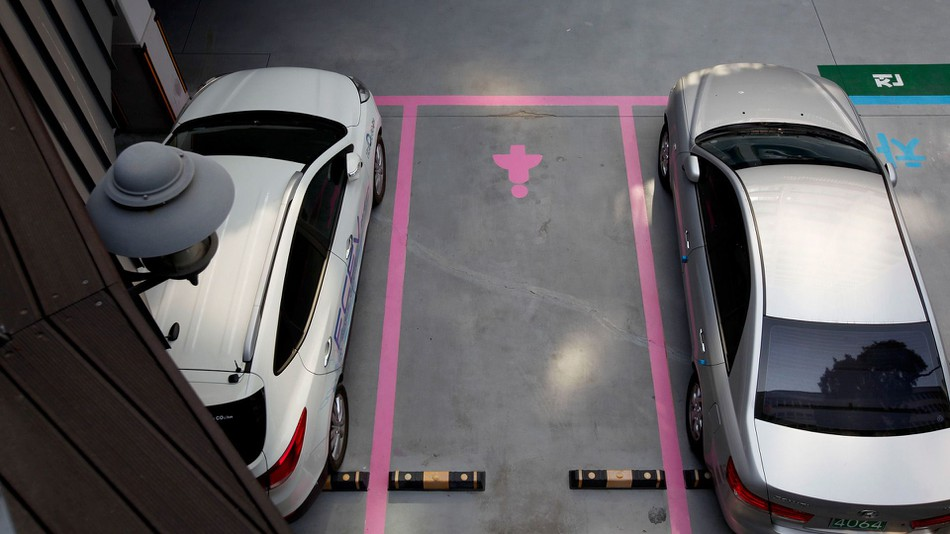empyt_space: (372, 93, 686, 534)
